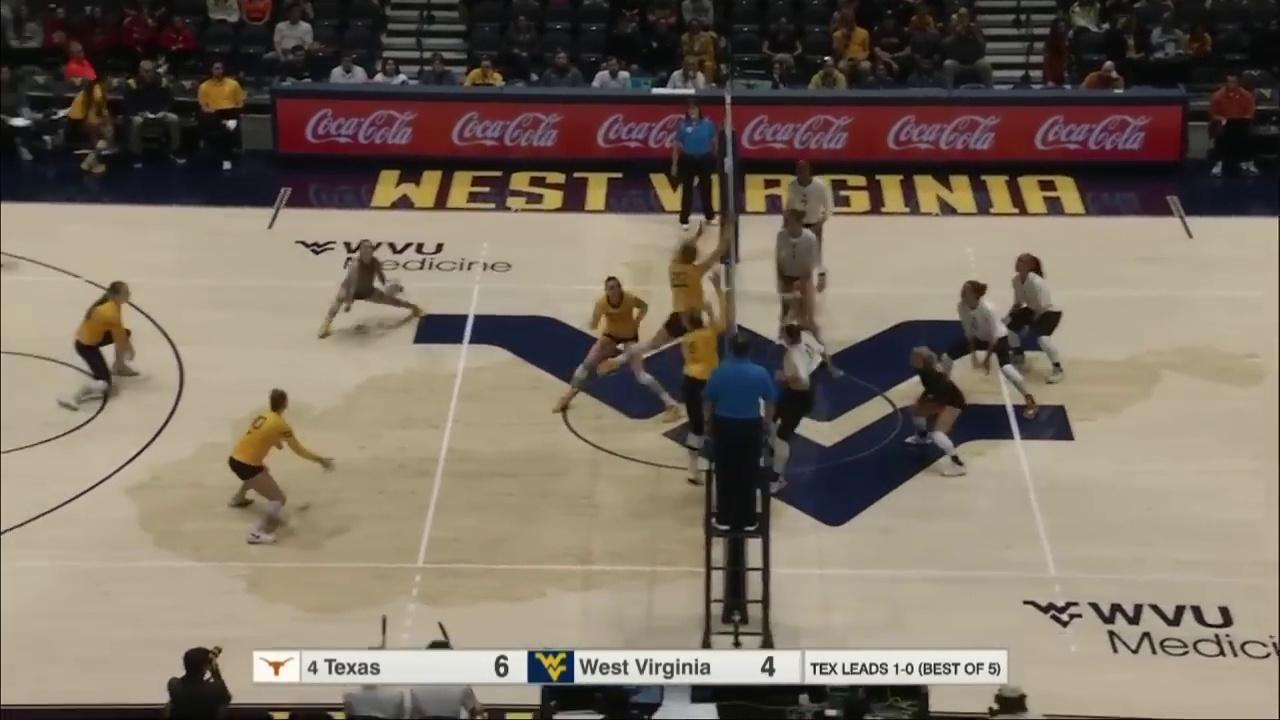player: (606, 219, 732, 396), (554, 275, 682, 421), (230, 389, 335, 540), (940, 281, 1037, 421), (58, 280, 141, 409), (318, 239, 424, 340), (681, 274, 727, 486), (1003, 254, 1064, 379), (768, 325, 813, 493), (909, 347, 967, 475), (775, 211, 825, 347), (785, 160, 829, 285)
refree: (707, 331, 776, 529), (673, 100, 721, 223)
